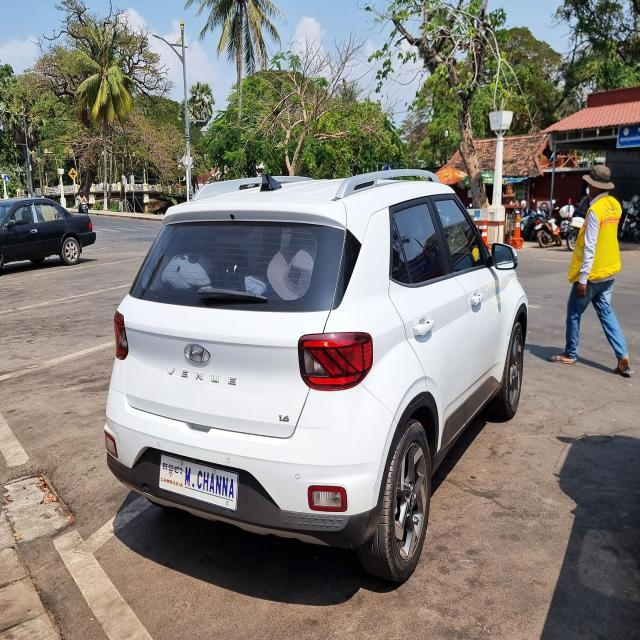Cambodia: (161, 459, 184, 479)
